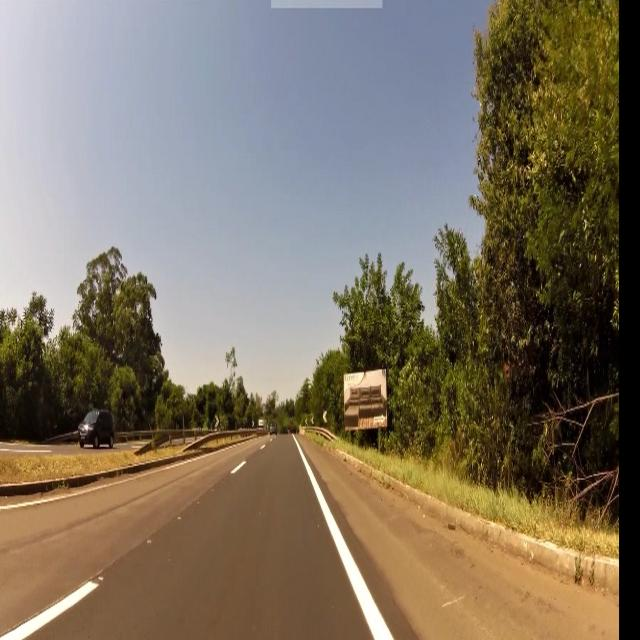Del: (321, 410, 330, 425), (213, 415, 220, 428)
